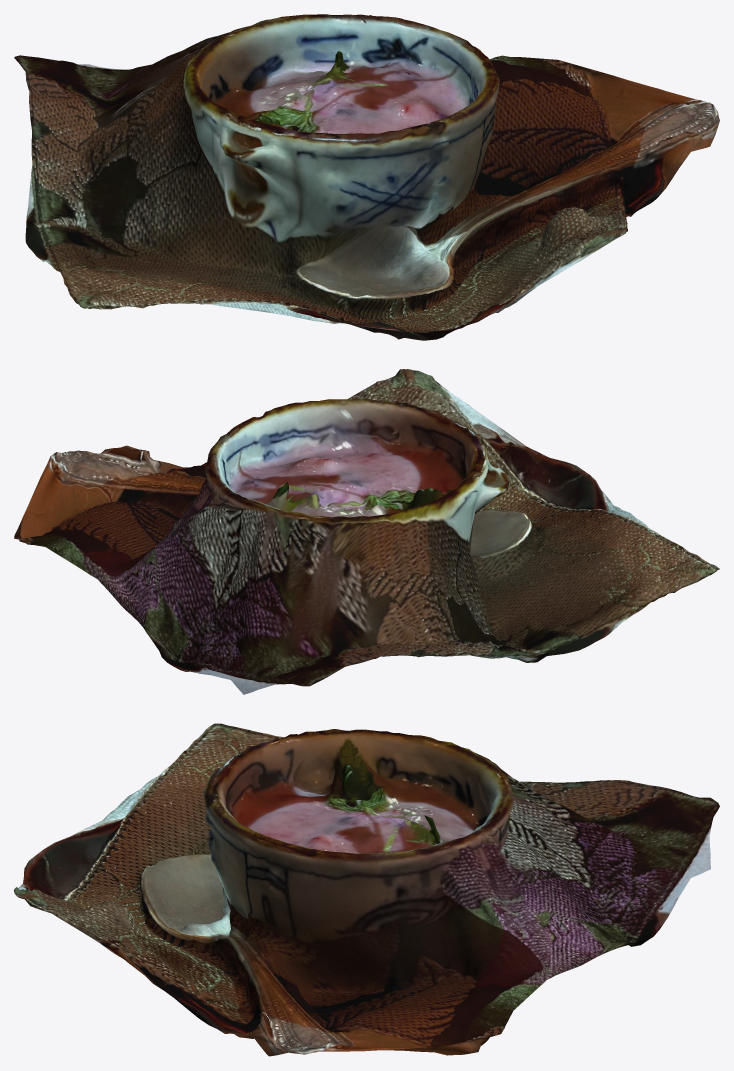
Rendered from mantani-ichigo.glb.
3 views of the same model, one above another, from view 1: azimuth 30°, elevation 25°; view 2: azimuth 150°, elevation 25°; view 3: azimuth 270°, elevation 25° (orthographic). The views are drawn at different scales.
Parts seen in each view (by area): view 1: g0; view 2: g0; view 3: g0.
Boxes of the visible parts, bbox=[...] form: g0: bbox=[14, 14, 719, 340]; g0: bbox=[14, 369, 719, 694]; g0: bbox=[14, 723, 719, 1056].
Bounding box in the file's own units: 0.8285 × 0.185 × 0.7605.
1 material, 1 textured.
